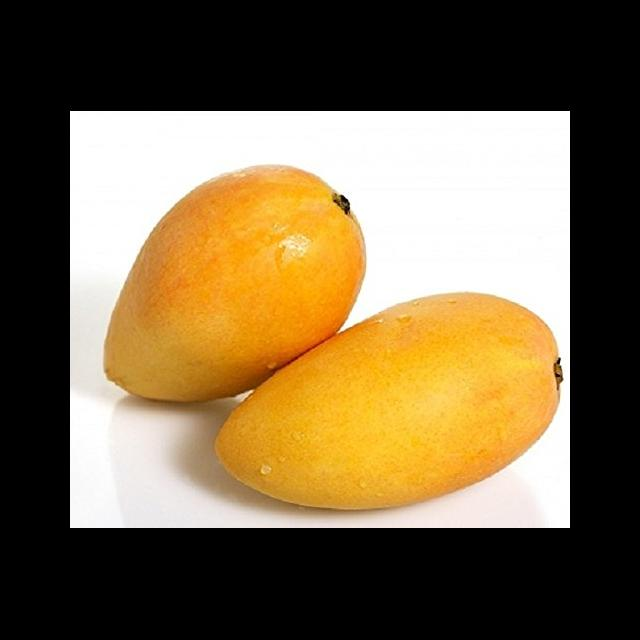Mango: (214, 290, 563, 512), (102, 162, 366, 404)
